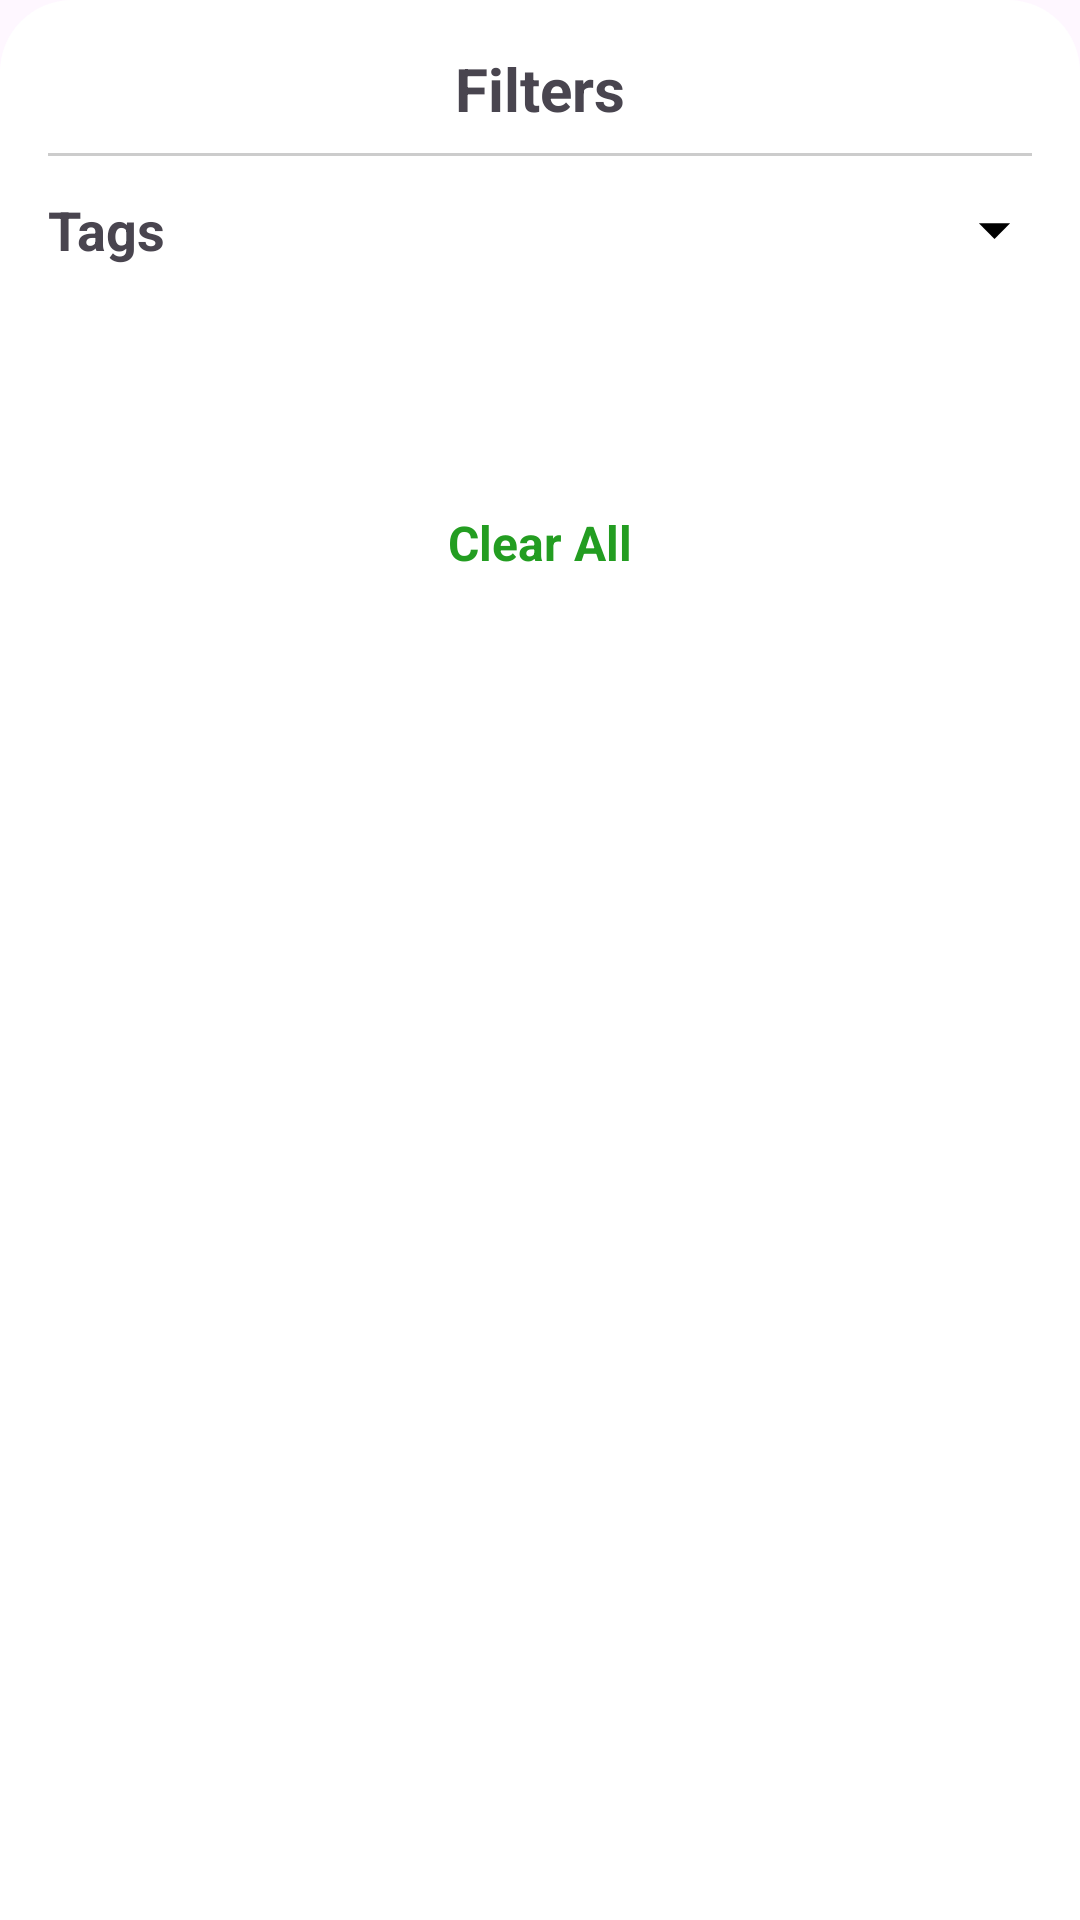

Icon click points for this 1080px x 1920px phone screenshot, format (x,y):
Dropdown Icon: (994,231)
